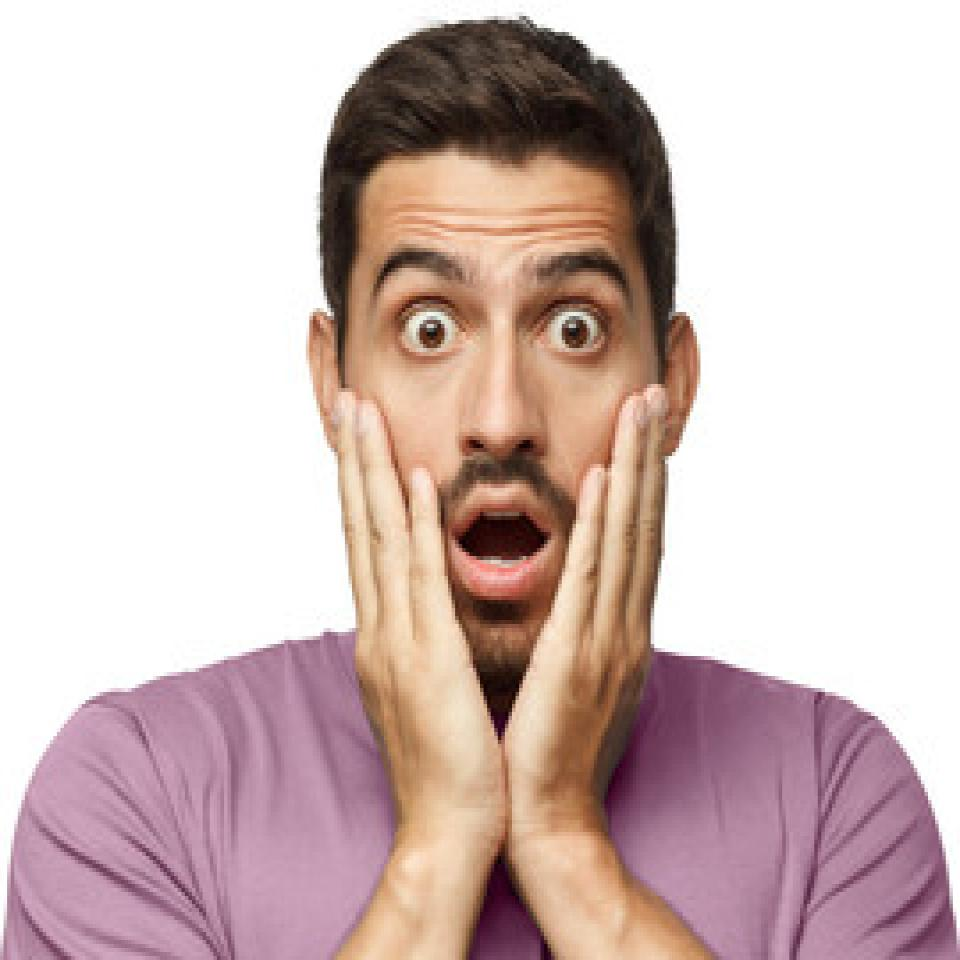Scared: (343, 204, 654, 660)
